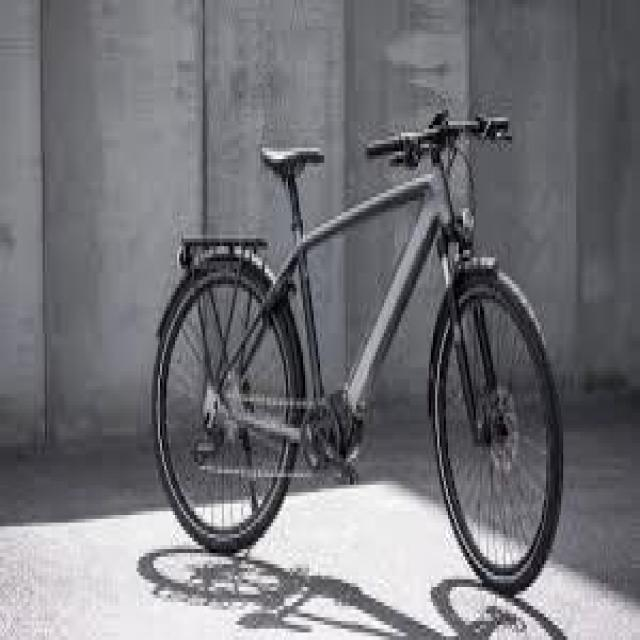bicycle: (153, 77, 563, 604)
